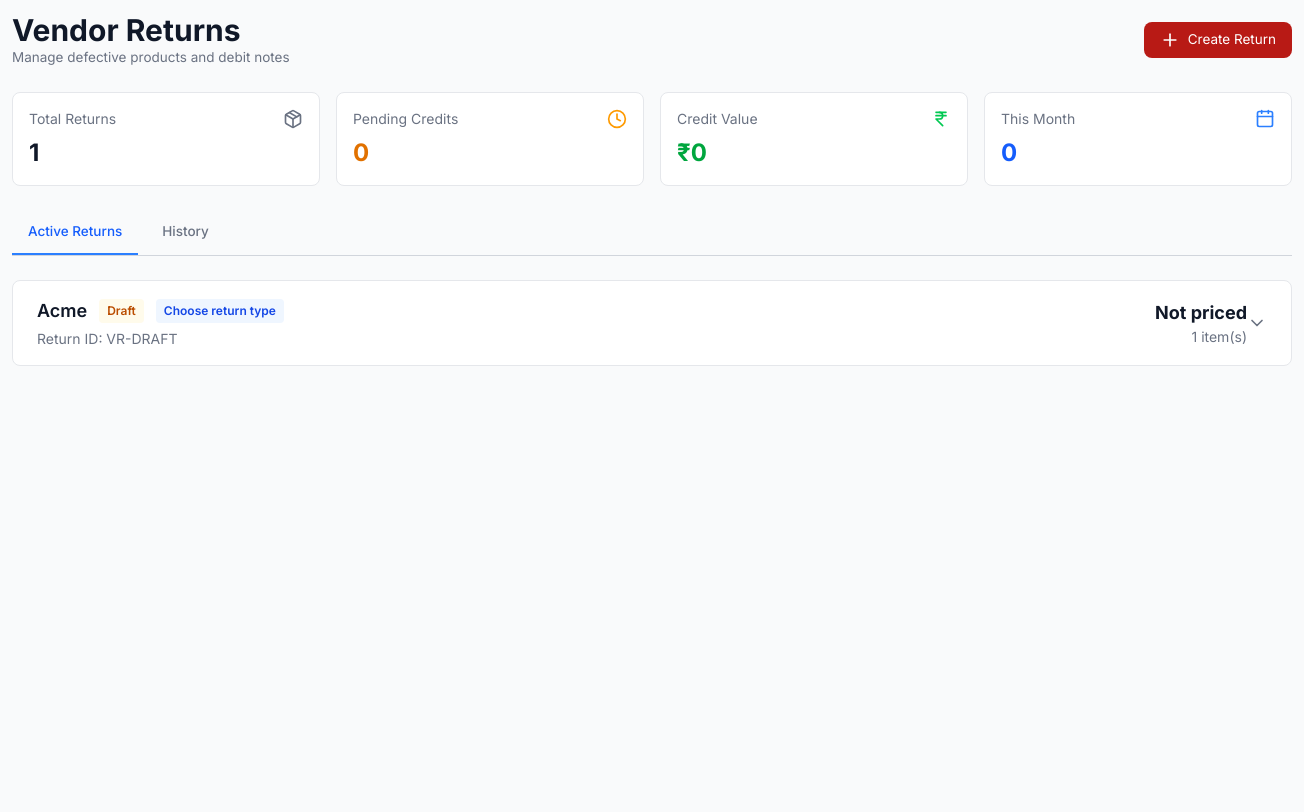
Test: receipt rejection draft handoff › does not let Accounts issue an unconfirmed draft even if it has a price
This screenshot has width=1304, height=812.
Click the heading "Acme".
click(62, 311)  # box [37, 297, 87, 325]
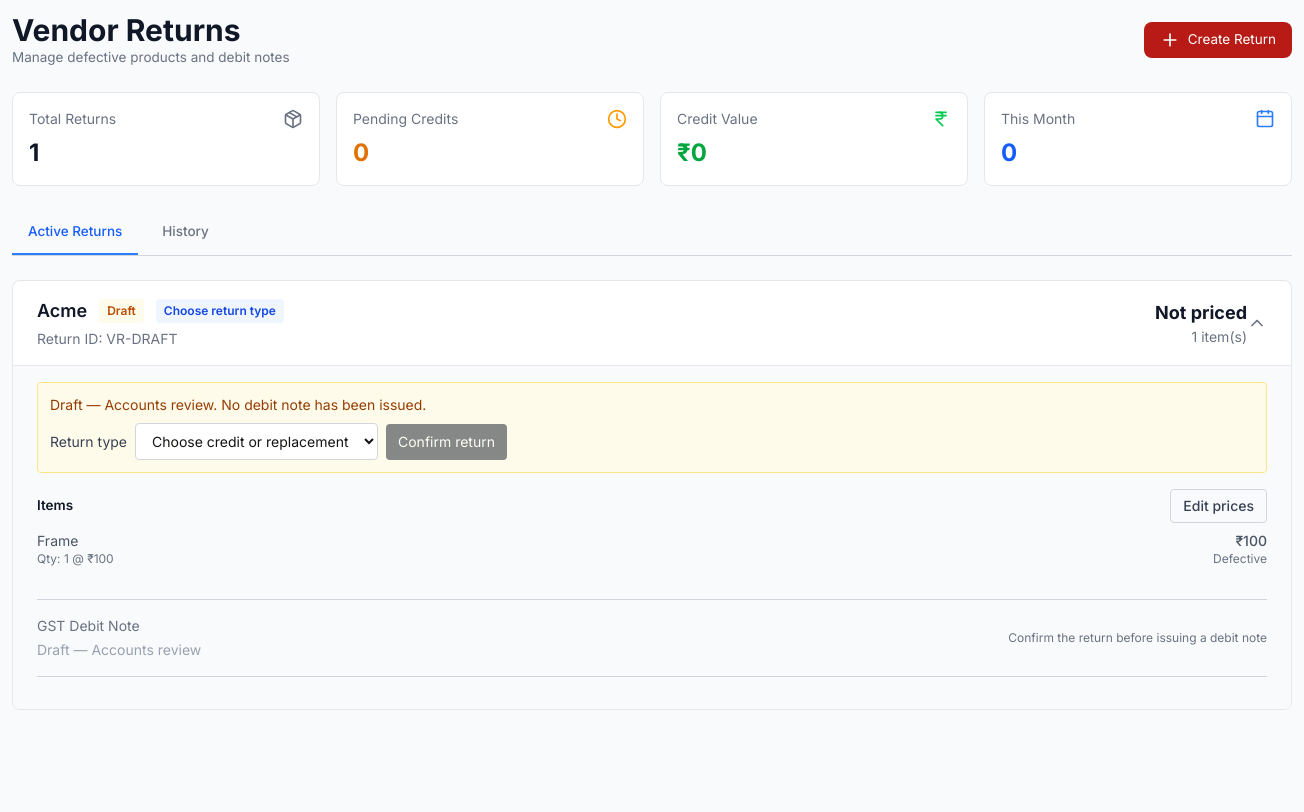
Expected: the text "Confirm the return before issuing a debit note" is shown, [1008, 630, 1267, 646]
